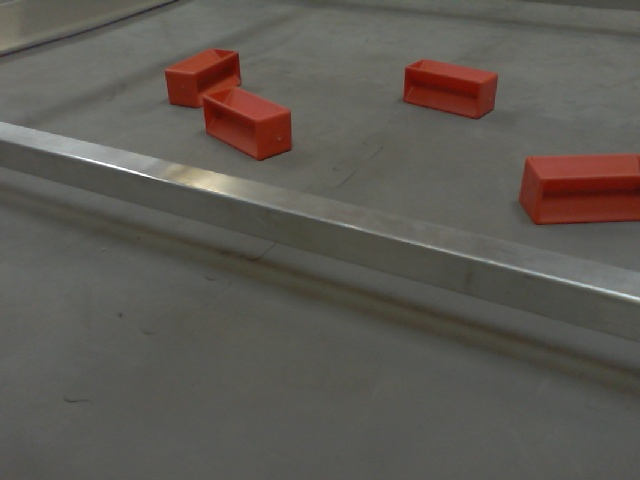RedSample: (517, 154, 640, 225), (198, 82, 295, 159), (401, 57, 498, 121), (162, 47, 243, 112)
